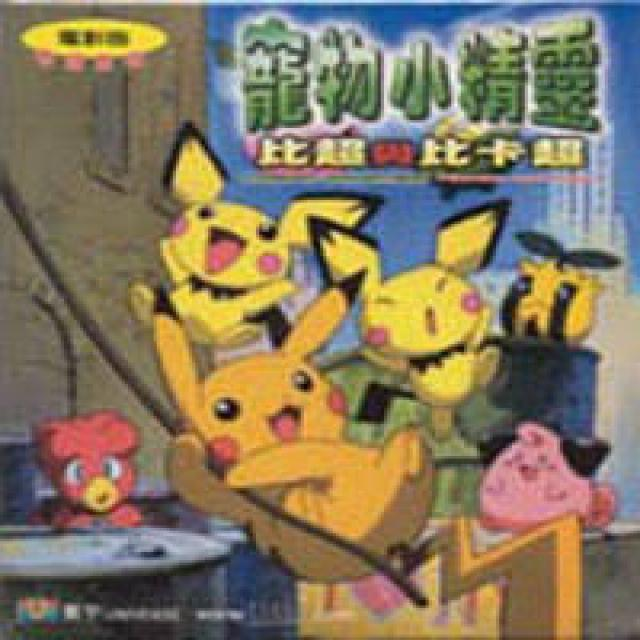pichu: (107, 126, 376, 356), (334, 201, 524, 432)
